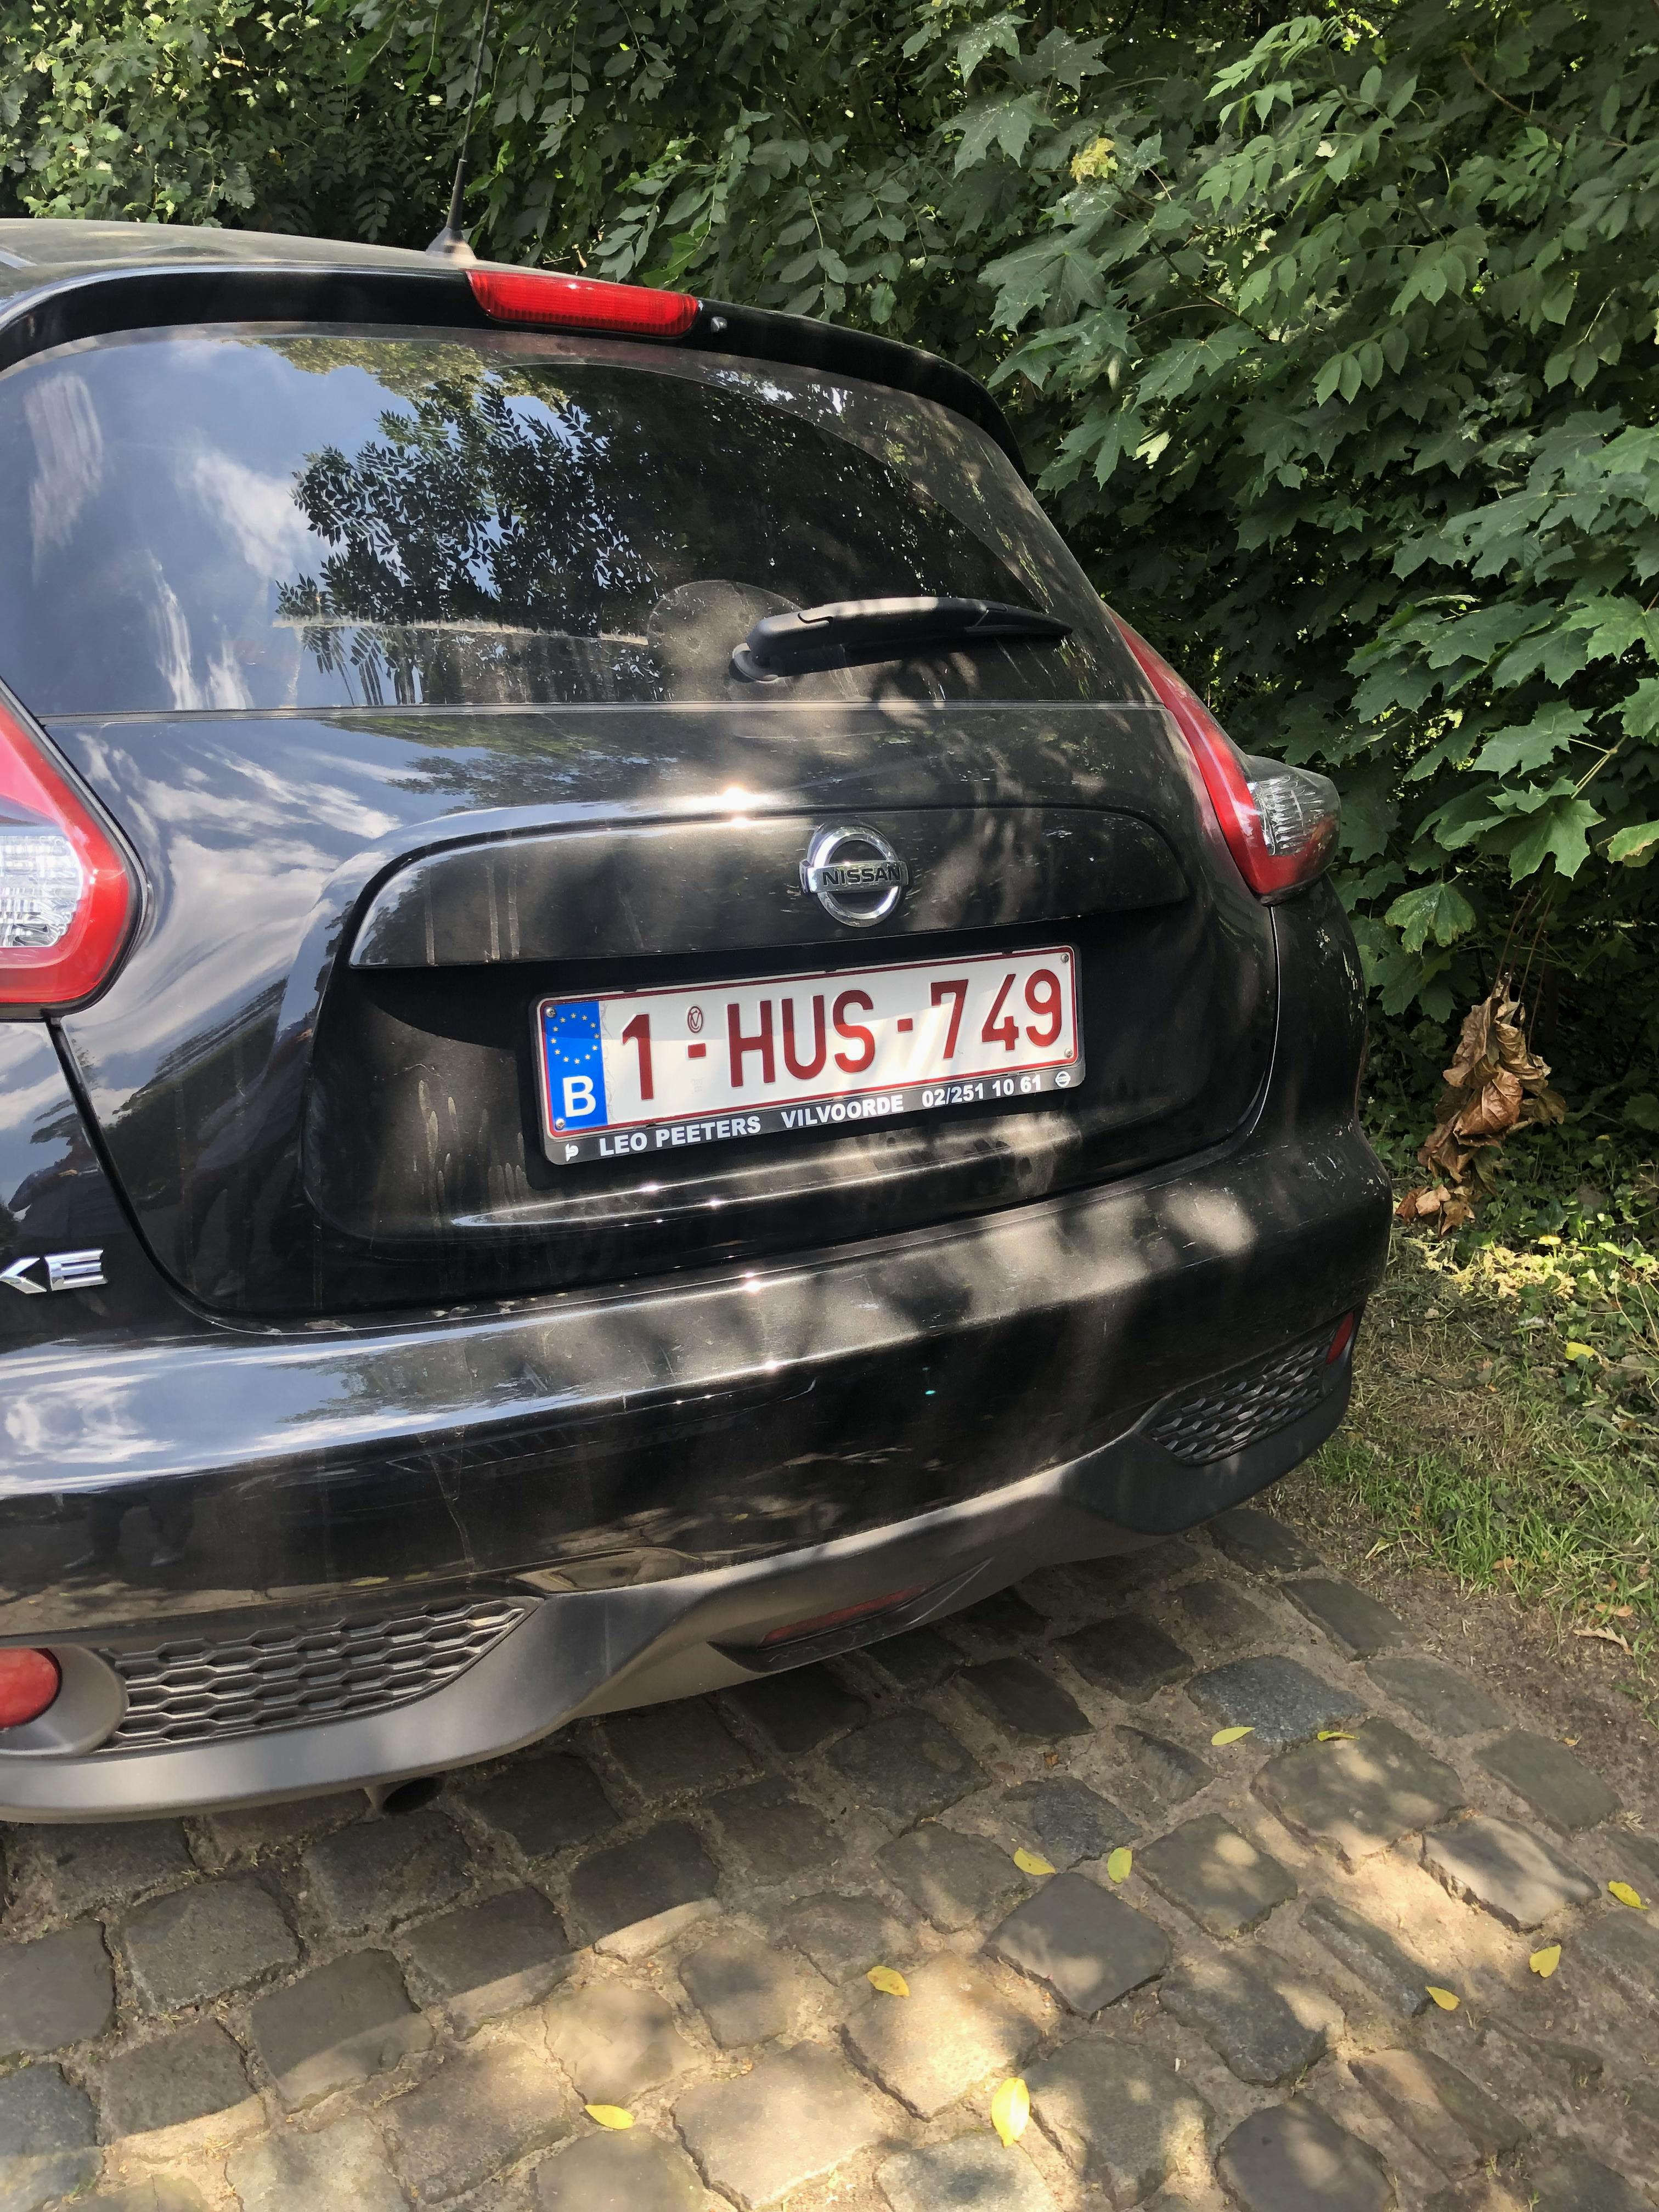plate: (517, 927, 1104, 1171)
